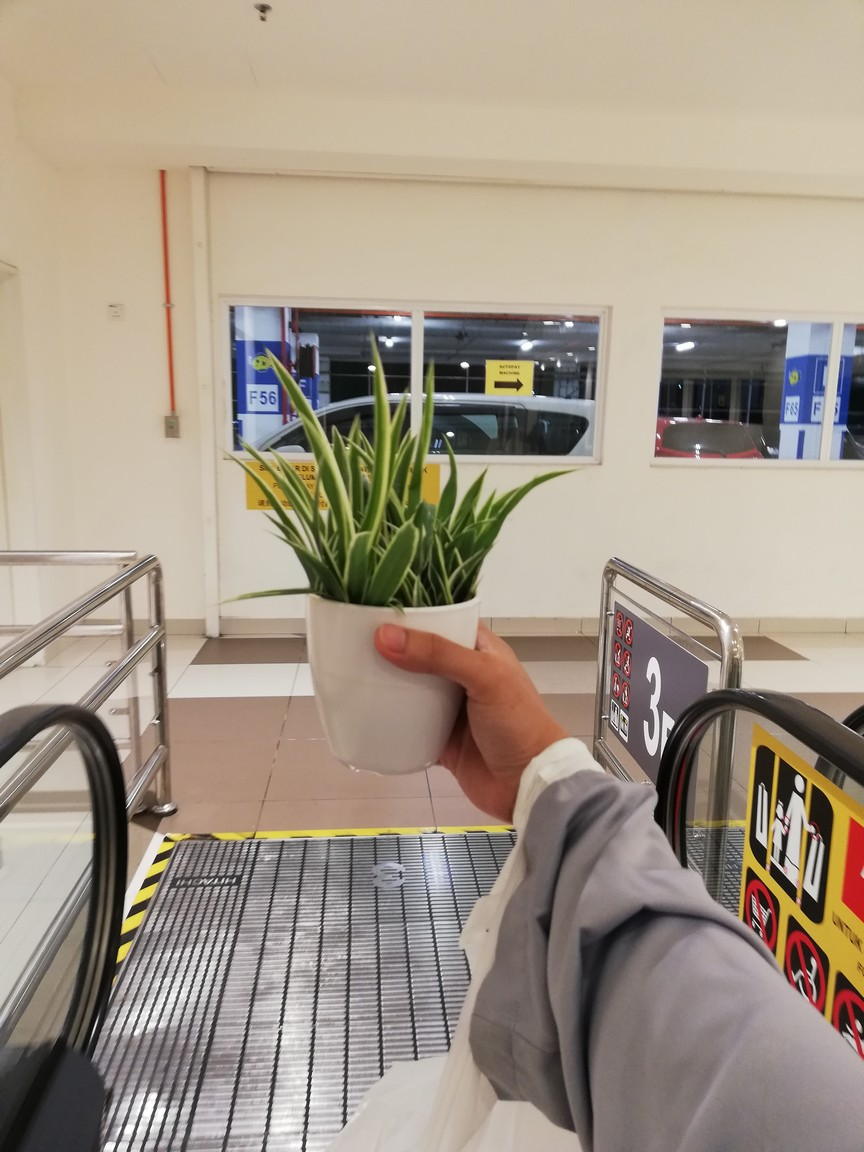daun: (265, 347, 331, 442), (499, 465, 590, 515), (193, 586, 305, 612), (344, 527, 374, 598), (369, 332, 390, 427), (418, 356, 434, 476), (438, 430, 458, 513), (235, 434, 276, 474), (267, 446, 299, 490), (218, 449, 260, 481), (393, 520, 419, 570), (344, 404, 362, 455), (464, 462, 490, 496), (390, 384, 411, 425), (260, 506, 289, 535), (359, 429, 378, 468), (341, 435, 366, 464), (469, 570, 486, 603), (328, 426, 346, 452), (484, 483, 500, 512), (404, 433, 420, 458), (401, 425, 413, 458), (391, 598, 409, 617)
